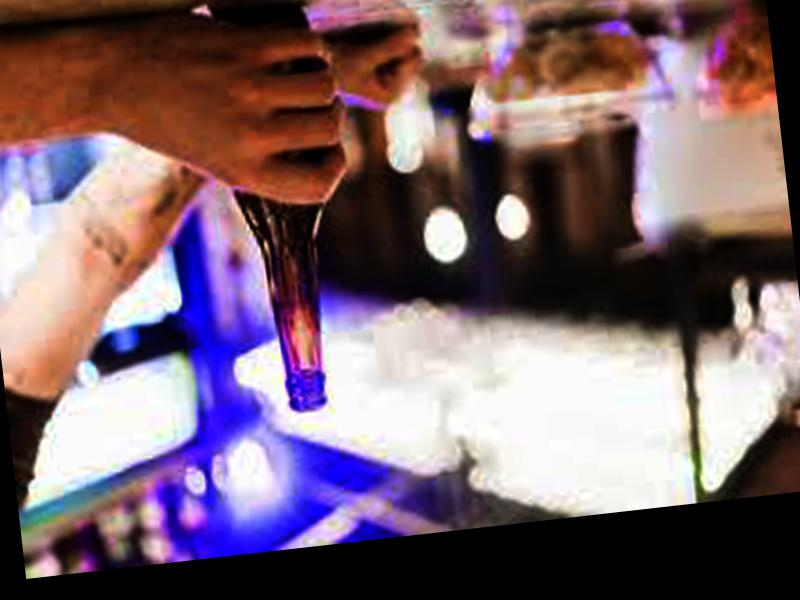Beer: (214, 2, 349, 416)
